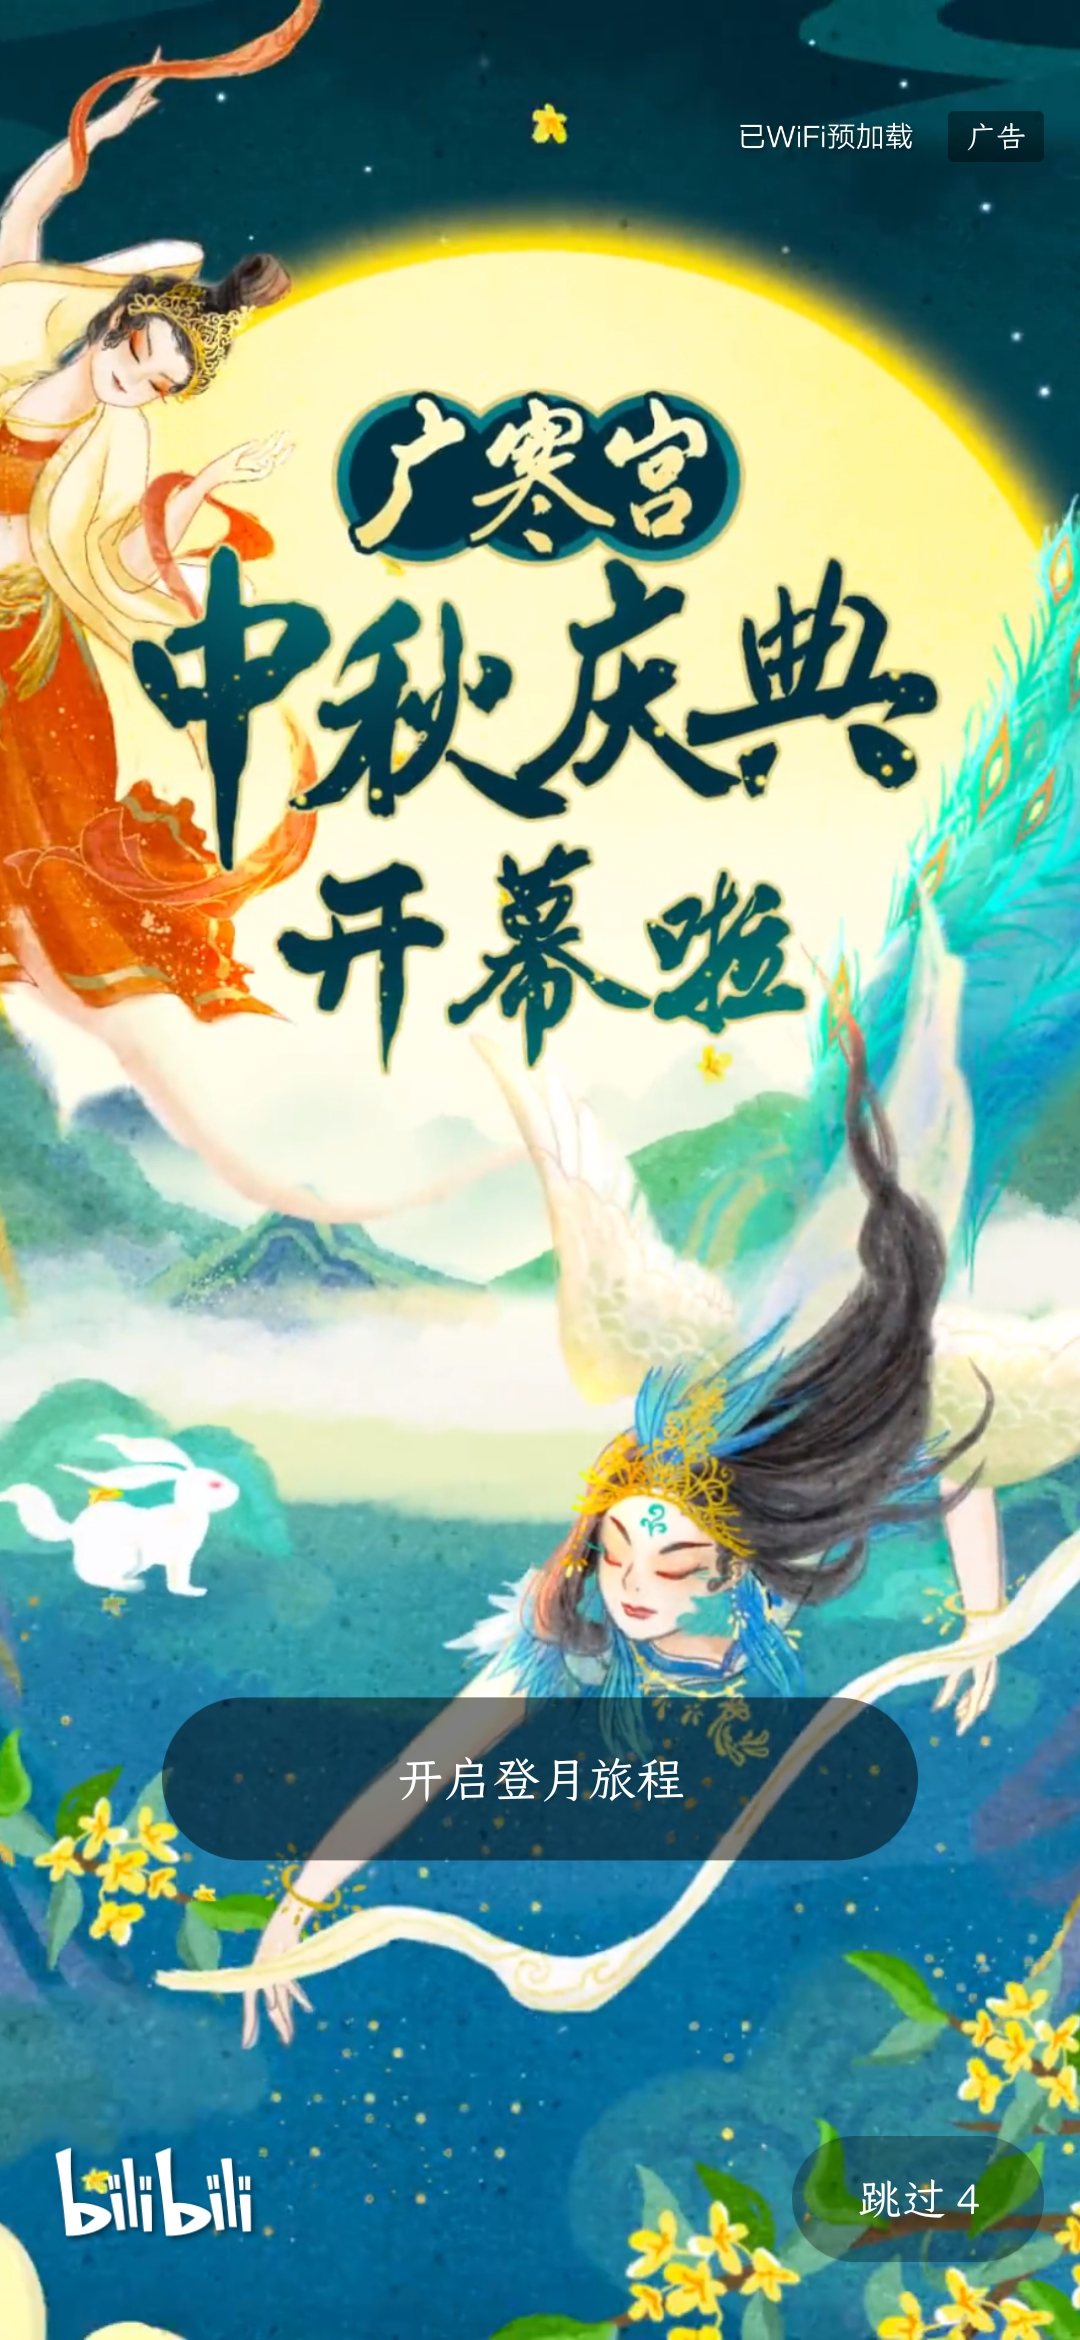skip: (832, 2142, 1013, 2262)
